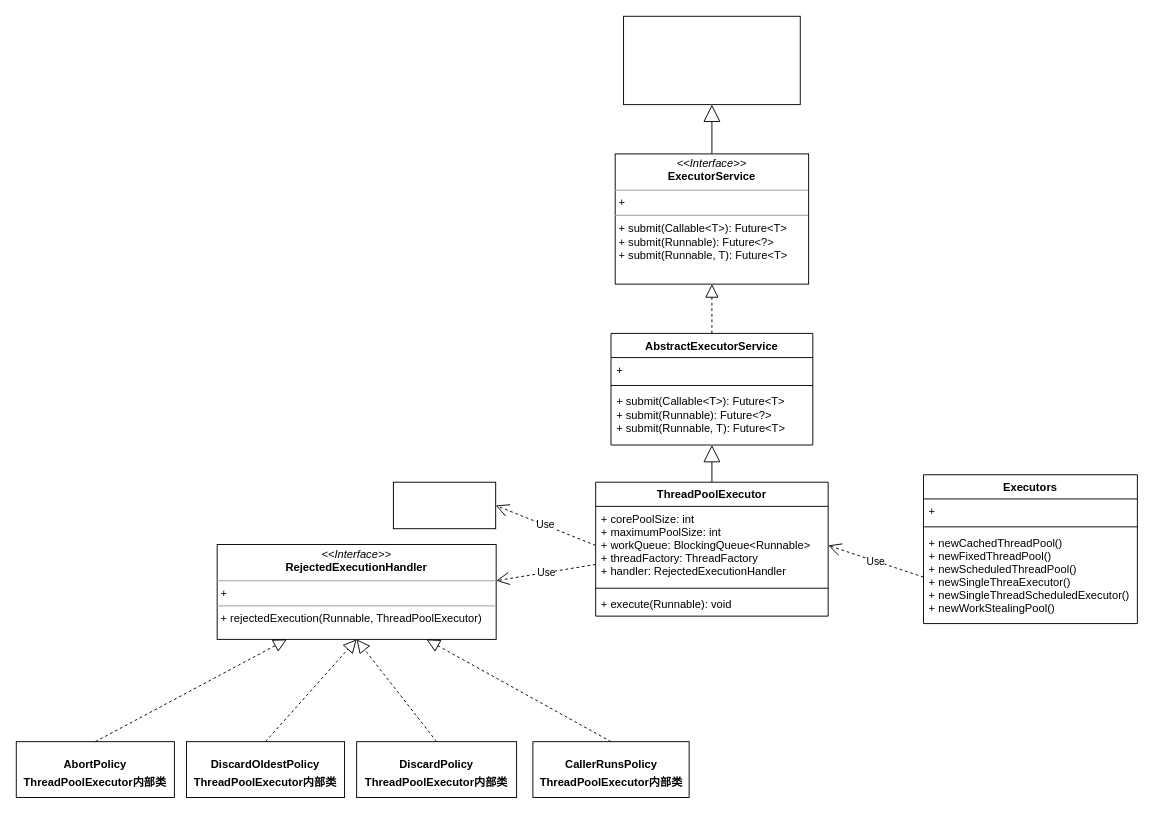
This 1154x814 diagram has some shape labels left out. Here are the shapes that lost their labels. From the top down, the centre of each, then its label:
At [711,60]: "<<Interface>> Executor + + execute(Runnable): void".
At [444,505]: "«interface» ThreadFactory".
